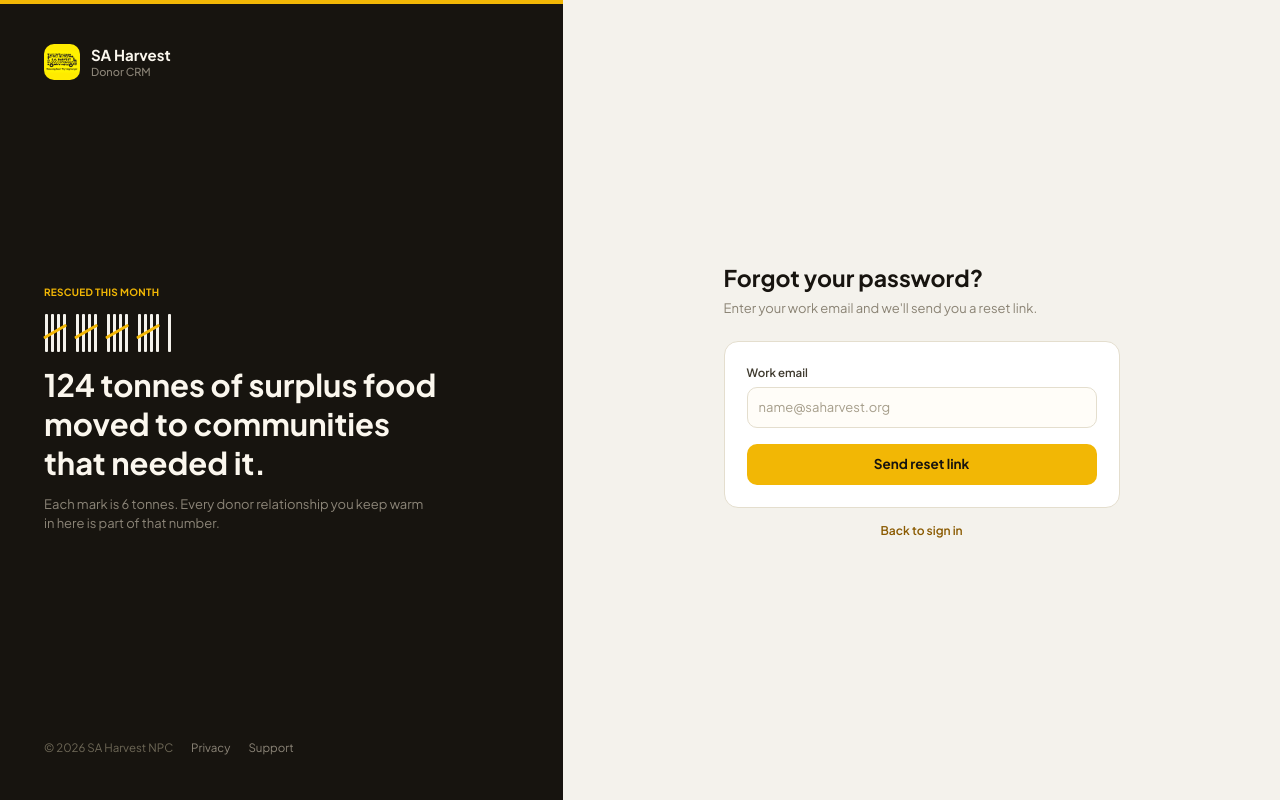
ForgotPasswordPage › Successful submit → shows generic success message (regardless of whether the account exists)
Type "unknown@saharvest.org" into the field with placeholder "name@saharvest.org" at [922, 408], box [747,387,1097,428]
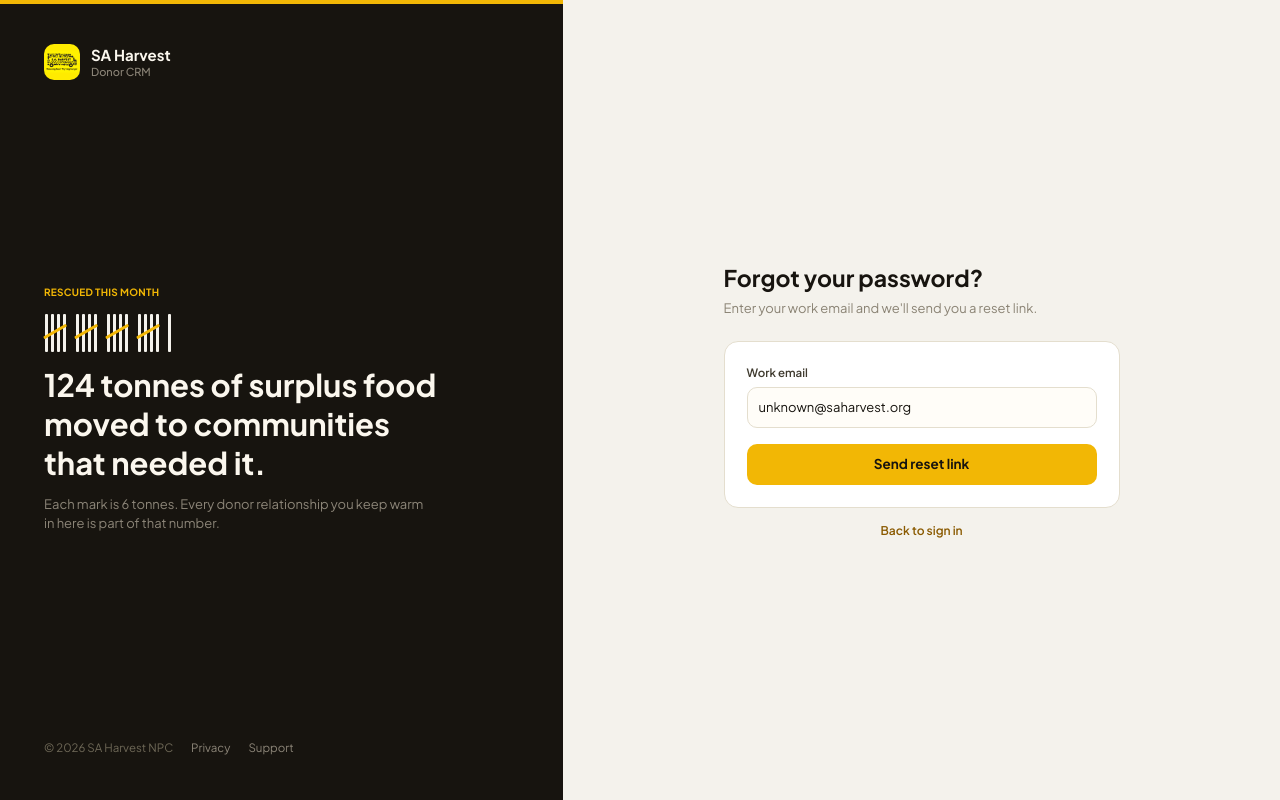
Click the button "Send reset link" at [922, 464], box [747,444,1097,485]
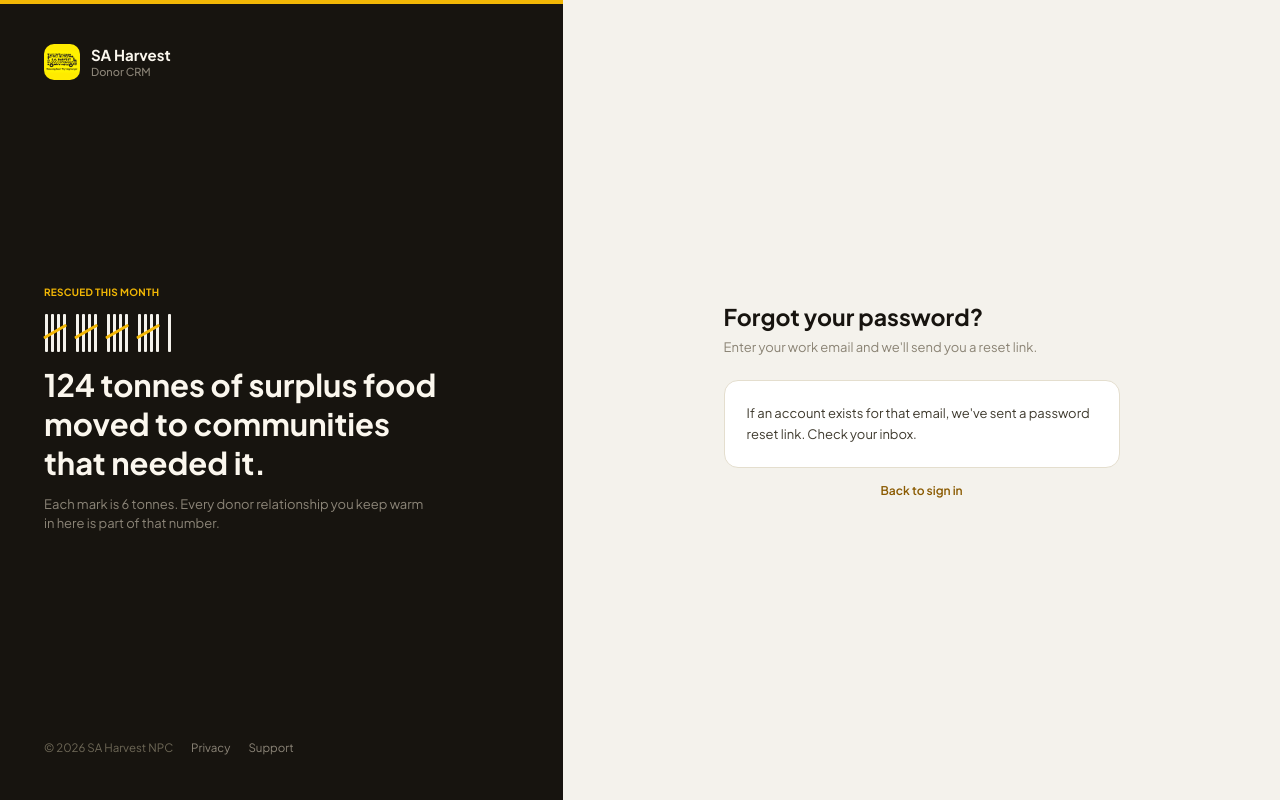
expect the text "we've sent a password reset link" is shown: met, box [747,405,1090,442]
